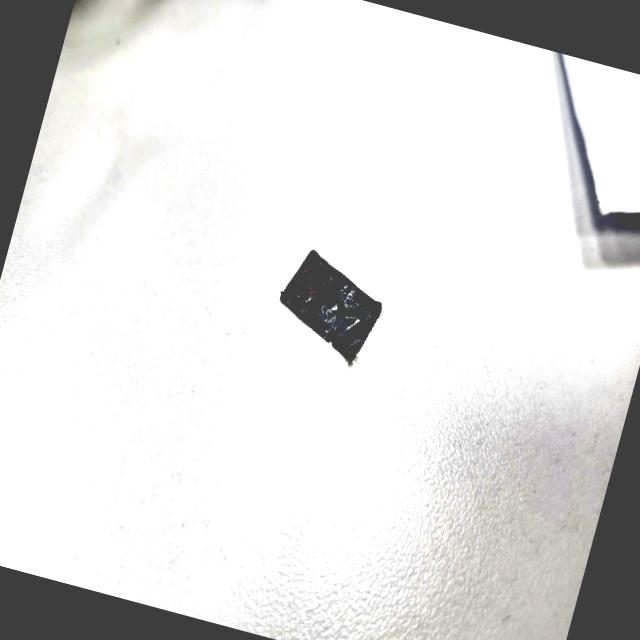removed_sticker: (266, 242, 392, 370)
